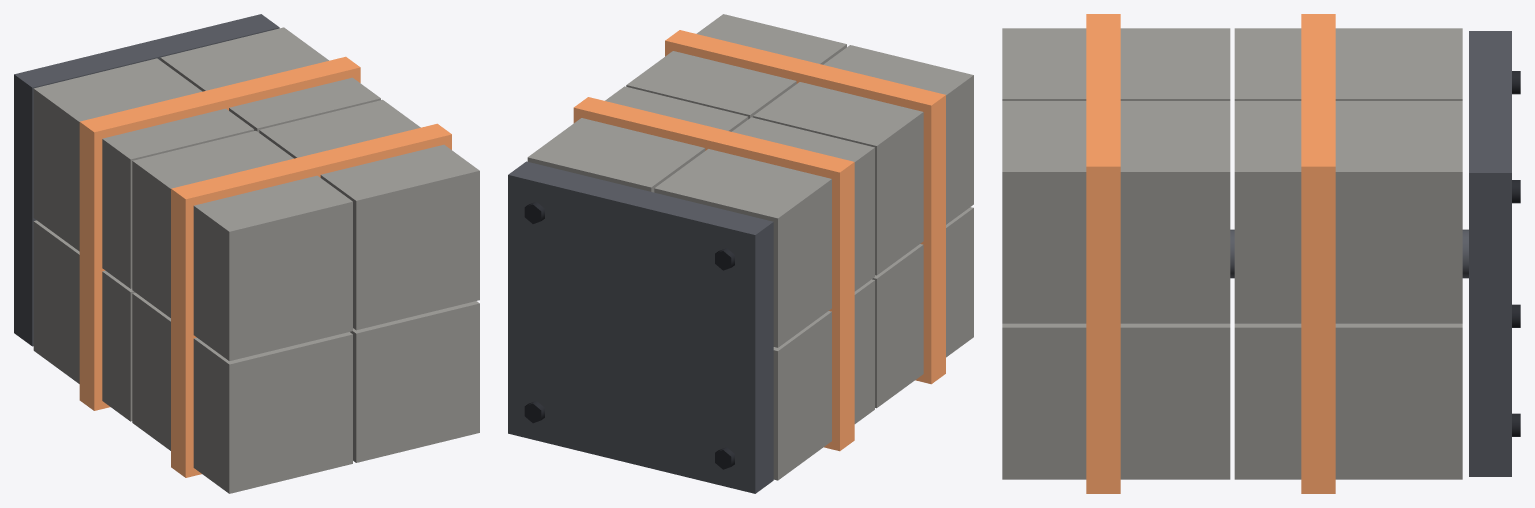
Rendered from build_piston.glb.
The picture shows the model from 3 angles, left to right: view 1: azimuth 30°, elevation 25°; view 2: azimuth 150°, elevation 25°; view 3: azimuth 270°, elevation 25°; orthographic projection. The views are drawn at different scales.
Parts seen in each view (by area): view 1: Baked, _MeshInstance3D_334; view 2: Baked, _MeshInstance3D_334; view 3: Baked, _MeshInstance3D_334, _MeshInstance3D_335.
Part boxes in pixels (left/top/right/bottom): Baked: left=33, top=27, right=479, bottom=493; _MeshInstance3D_334: left=14, top=14, right=279, bottom=346; Baked: left=527, top=14, right=973, bottom=480; _MeshInstance3D_334: left=508, top=161, right=773, bottom=493; Baked: left=1002, top=14, right=1462, bottom=493; _MeshInstance3D_334: left=1469, top=31, right=1511, bottom=476; _MeshInstance3D_335: left=1230, top=229, right=1468, bottom=278.
Size of the model in its own units: 0.84 by 0.84 by 1.2.
